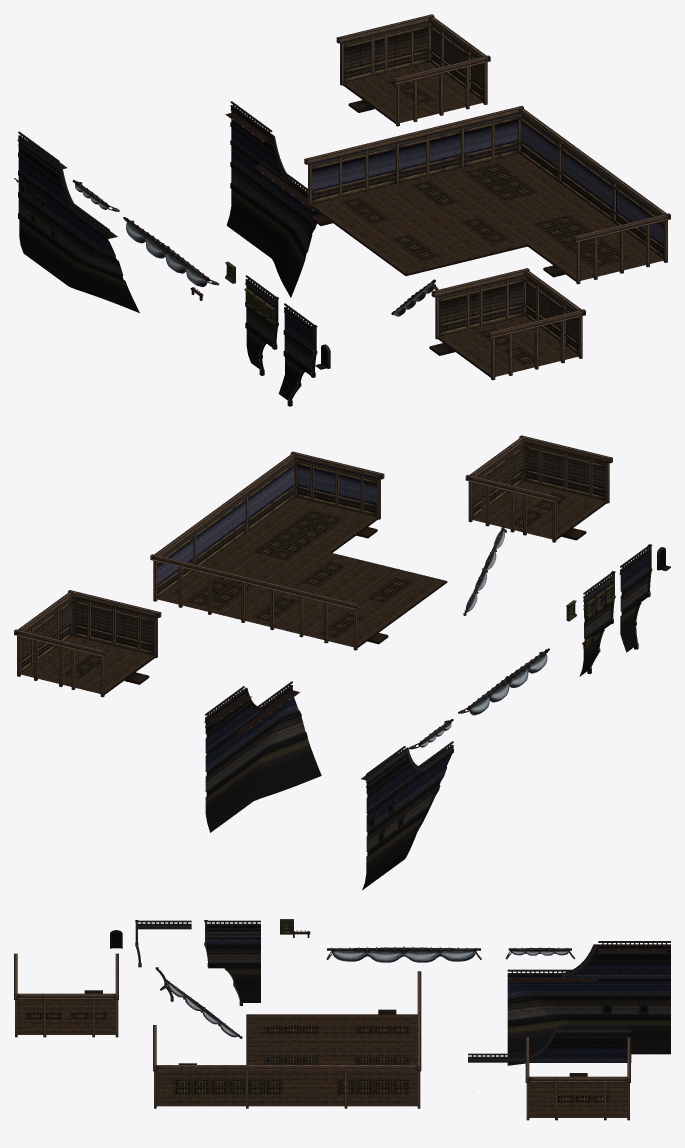
File: EnvMdrMD_Ship_B_Fastener_A.FBX
3 renders of one model, top to bottom at view 1: azimuth 30°, elevation 25°; view 2: azimuth 150°, elevation 25°; view 3: azimuth 270°, elevation 25°, orthographic. The views are drawn at different scales.
Visible parts, largest first — view 1: EnvMdrMD_Ship_B_Indoor_Cabin_C, EnvMdrMD_Ship_B_Indoor_Cabin_D, EnvMdrMD_Ship_B_Indoor_Cabin_A, EnvMdrMD_Ship_B_GrdWall_A_Spline_A, EnvMdrMD_Ship_B_GrdWall_A_Spline_A_Outside, EnvMdrMD_Ship_B_GrdWall_A_Spline_B_Outside, EnvMdrMD_Ship_B_GrdWall_A_Spline_B, EnvMdrMD_Ship_B_Sail_A; view 2: EnvMdrMD_Ship_B_Indoor_Cabin_C, EnvMdrMD_Ship_B_Indoor_Cabin_D, EnvMdrMD_Ship_B_GrdWall_A_Spline_A_Outside, EnvMdrMD_Ship_B_Indoor_Cabin_A, EnvMdrMD_Ship_B_GrdWall_A_Spline_A, EnvMdrMD_Ship_B_GrdWall_A_Spline_B_Outside, EnvMdrMD_Ship_B_GrdWall_A_Spline_B, EnvMdrMD_Ship_B_Sail_A, EnvMdrMD_Ship_B_Sail_B; view 3: EnvMdrMD_Ship_B_Indoor_Cabin_C, EnvMdrMD_Ship_B_GrdWall_A_Spline_A, EnvMdrMD_Ship_B_Indoor_Cabin_A, EnvMdrMD_Ship_B_Indoor_Cabin_D, EnvMdrMD_Ship_B_GrdWall_A_Spline_A_Outside, EnvMdrMD_Ship_B_GrdWall_A_Spline_B, EnvMdrMD_Ship_B_Sail_A, EnvMdrMD_Ship_B_GrdWall_A_Spline_B_Outside, EnvMdrMD_Ship_B_Sail_B, EnvMdrMD_Ship_B_Sail_C.
Boxes of the visible parts, box(x1,y1,x2,y2) form: EnvMdrMD_Ship_B_Indoor_Cabin_C: box(304, 106, 670, 284); EnvMdrMD_Ship_B_Indoor_Cabin_D: box(429, 268, 585, 380); EnvMdrMD_Ship_B_Indoor_Cabin_A: box(336, 14, 490, 126); EnvMdrMD_Ship_B_GrdWall_A_Spline_A: box(14, 131, 139, 312); EnvMdrMD_Ship_B_GrdWall_A_Spline_A_Outside: box(225, 101, 320, 297); EnvMdrMD_Ship_B_GrdWall_A_Spline_B_Outside: box(278, 303, 317, 406); EnvMdrMD_Ship_B_GrdWall_A_Spline_B: box(244, 275, 278, 375); EnvMdrMD_Ship_B_Sail_A: box(123, 217, 219, 286); EnvMdrMD_Ship_B_Indoor_Cabin_C: box(150, 451, 447, 650); EnvMdrMD_Ship_B_Indoor_Cabin_D: box(465, 435, 612, 542); EnvMdrMD_Ship_B_GrdWall_A_Spline_A_Outside: box(204, 681, 321, 832); EnvMdrMD_Ship_B_Indoor_Cabin_A: box(14, 590, 161, 697); EnvMdrMD_Ship_B_GrdWall_A_Spline_A: box(361, 741, 453, 890); EnvMdrMD_Ship_B_GrdWall_A_Spline_B_Outside: box(619, 544, 652, 652); EnvMdrMD_Ship_B_GrdWall_A_Spline_B: box(579, 571, 615, 676); EnvMdrMD_Ship_B_Sail_A: box(458, 648, 549, 715); EnvMdrMD_Ship_B_Sail_B: box(463, 523, 506, 615); EnvMdrMD_Ship_B_Indoor_Cabin_C: box(153, 971, 421, 1108); EnvMdrMD_Ship_B_GrdWall_A_Spline_A: box(507, 941, 670, 1065); EnvMdrMD_Ship_B_Indoor_Cabin_A: box(525, 1036, 630, 1120); EnvMdrMD_Ship_B_Indoor_Cabin_D: box(14, 953, 118, 1037); EnvMdrMD_Ship_B_GrdWall_A_Spline_A_Outside: box(468, 1024, 631, 1062); EnvMdrMD_Ship_B_GrdWall_A_Spline_B: box(204, 920, 260, 1005); EnvMdrMD_Ship_B_Sail_A: box(326, 946, 481, 962); EnvMdrMD_Ship_B_GrdWall_A_Spline_B_Outside: box(135, 920, 191, 1001); EnvMdrMD_Ship_B_Sail_B: box(160, 979, 242, 1038); EnvMdrMD_Ship_B_Sail_C: box(505, 947, 575, 959).
Bounding box in the file's own units: 4815 × 1770 × 7248.
1 material, 1 textured.
